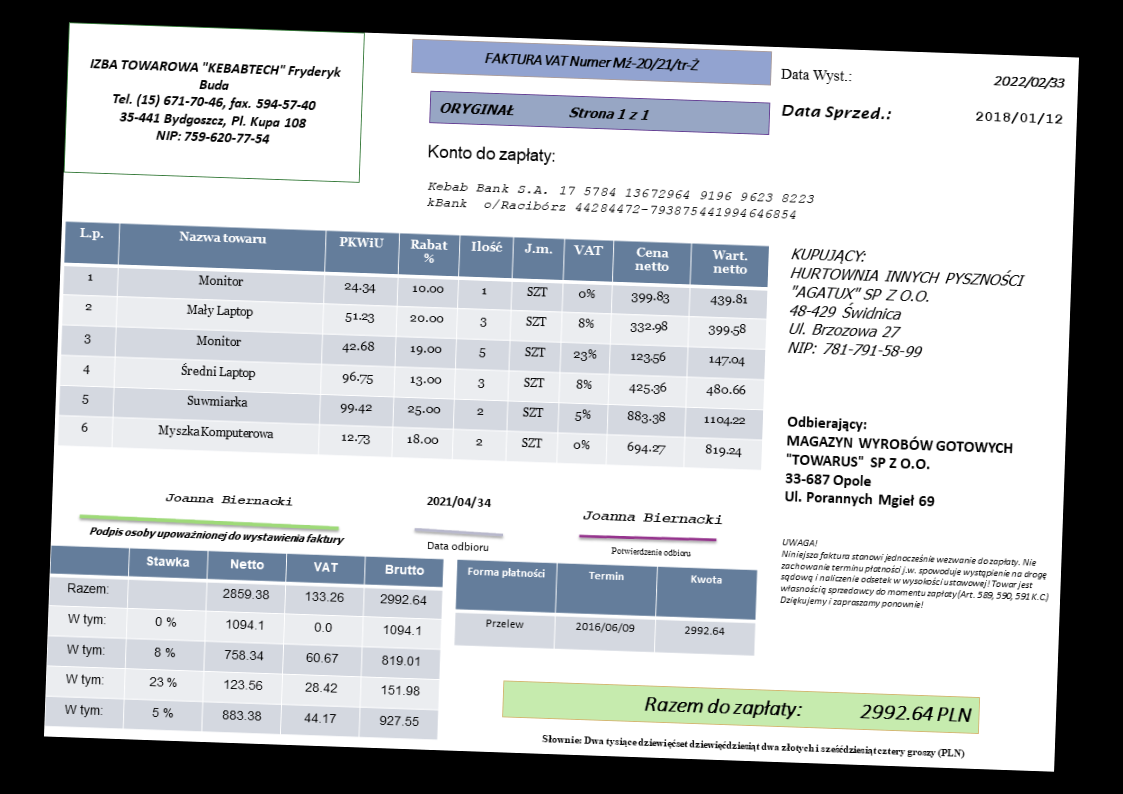Table: (56, 220, 770, 471), (45, 544, 446, 740), (453, 559, 758, 657)
TextBox: (785, 244, 1027, 364), (85, 55, 344, 151), (782, 413, 1016, 515), (778, 534, 1053, 616), (425, 178, 818, 224), (539, 731, 967, 761), (642, 693, 974, 728), (87, 523, 344, 547), (483, 49, 702, 75), (438, 98, 653, 123), (425, 141, 558, 168), (580, 508, 724, 528), (780, 100, 892, 125), (164, 490, 294, 509), (972, 107, 1065, 127), (778, 65, 853, 85), (990, 72, 1068, 91), (424, 492, 493, 513), (610, 545, 693, 559), (424, 539, 489, 554)
